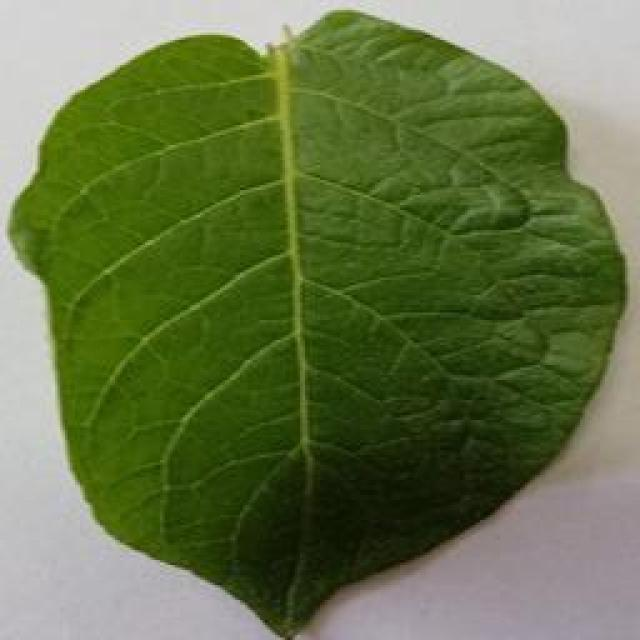Potato_Healthy: (7, 11, 617, 636)
